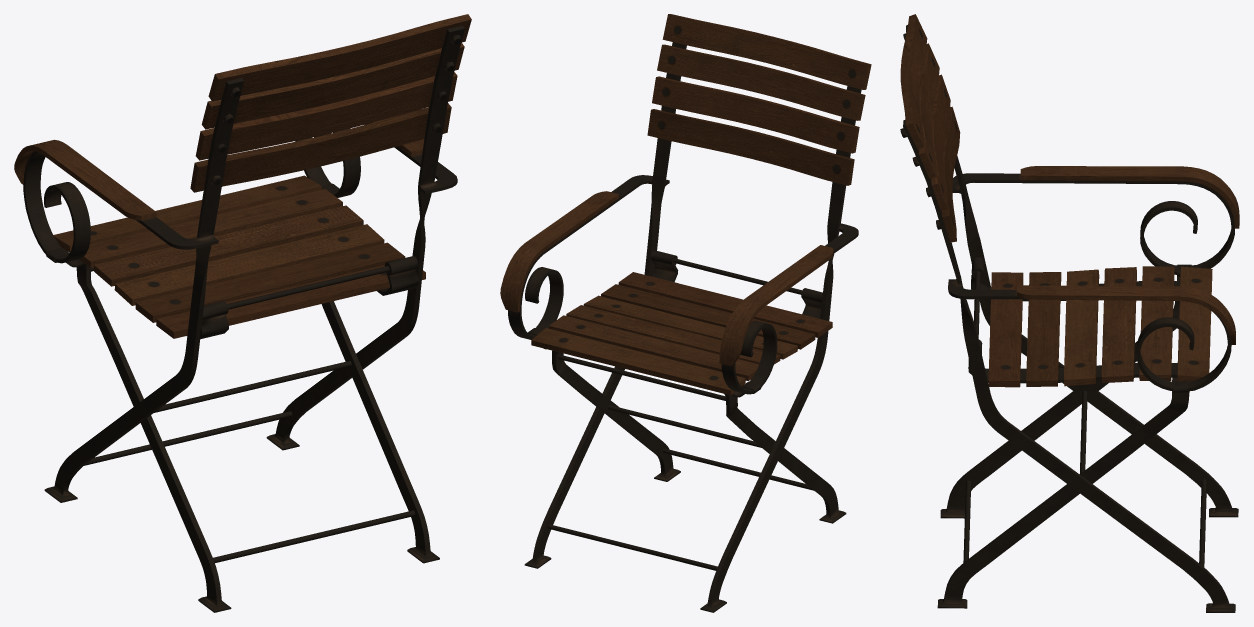
The model's file is CafeChair_adapted.glb.
The picture shows the model from 3 angles, left to right: view 1: azimuth 30°, elevation 25°; view 2: azimuth 150°, elevation 25°; view 3: azimuth 270°, elevation 25°; orthographic projection. The views are drawn at different scales.
Bounding box in the file's own units: 0.5857 × 1.03 × 0.642.
Materials: 1 (1 with a texture image).
